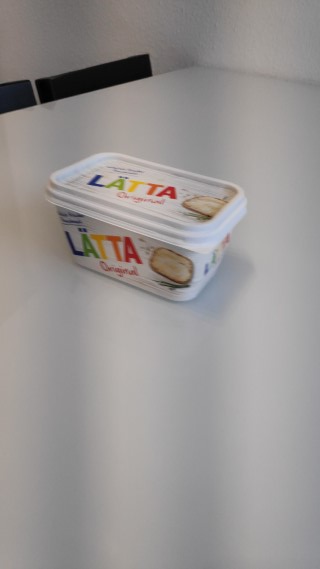laetta: (43, 152, 248, 303)
